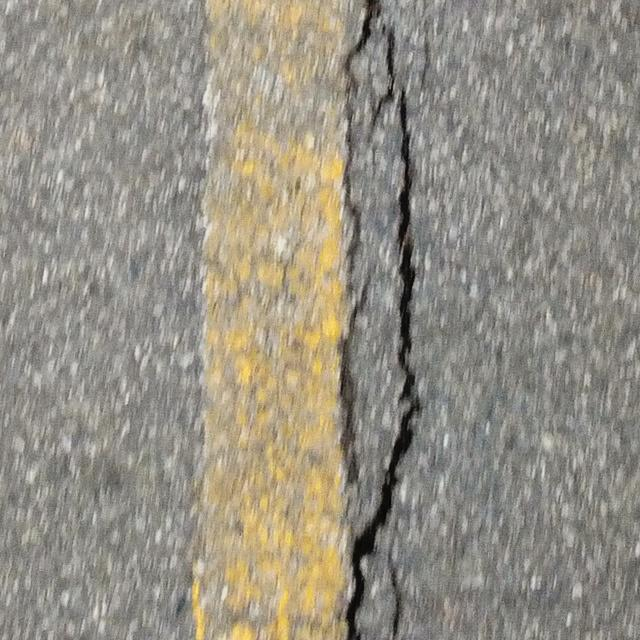LongitudinalCrack: (344, 1, 418, 640)
